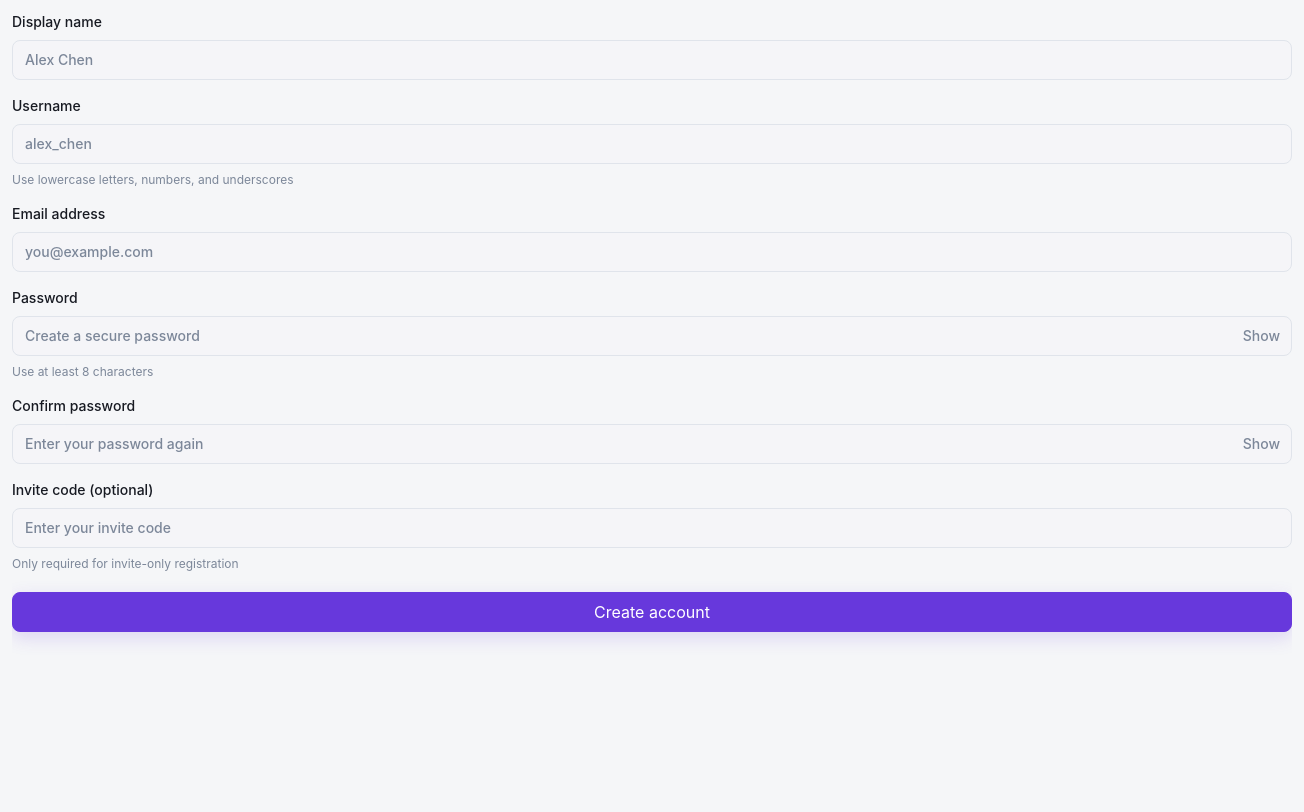
it: RegisterForm › validates registration fields with the shared schema
Step 1. Type "Alex" into the field labelled "Display name" → (652, 60), box 12,40 -> 1292,80
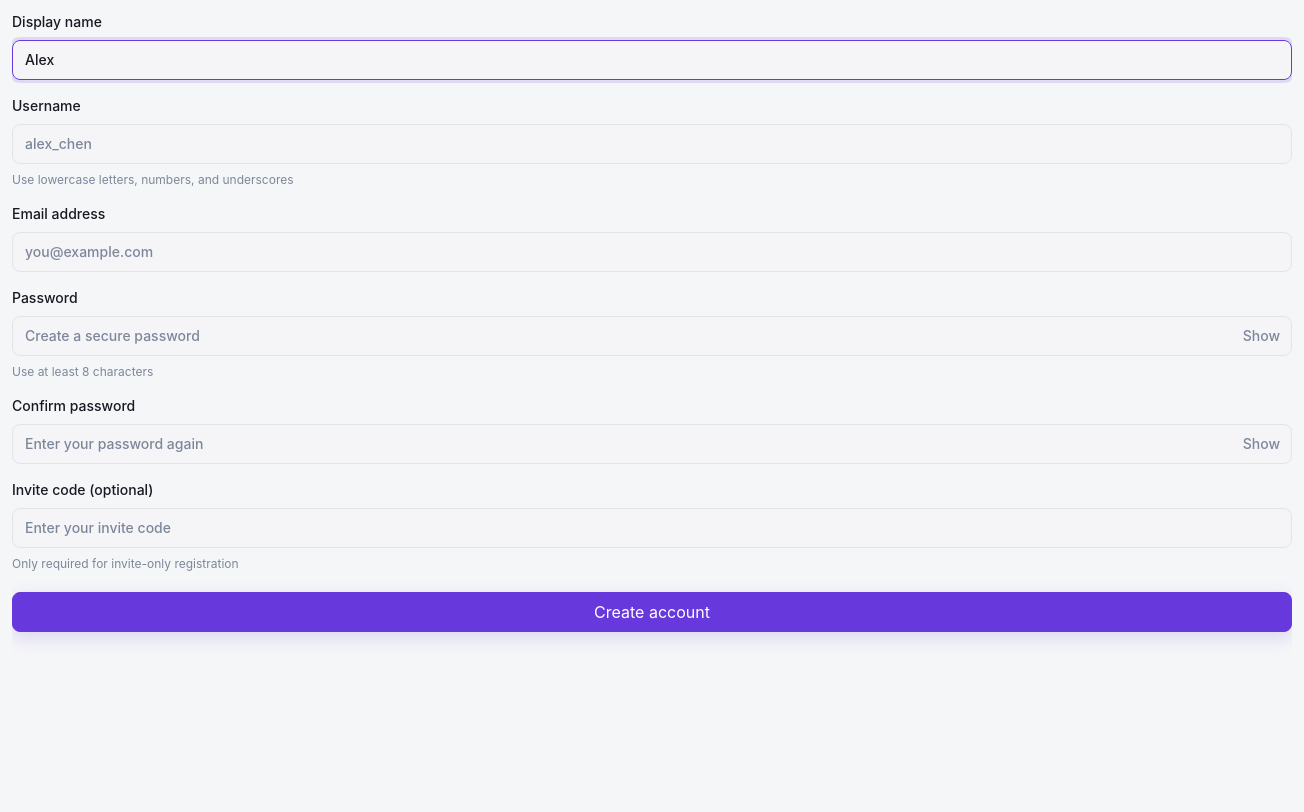
Step 2. Type "Alex-" into the field labelled "Username Use lowercase letters, numbers, and underscores" → (652, 144), box 12,124 -> 1292,164
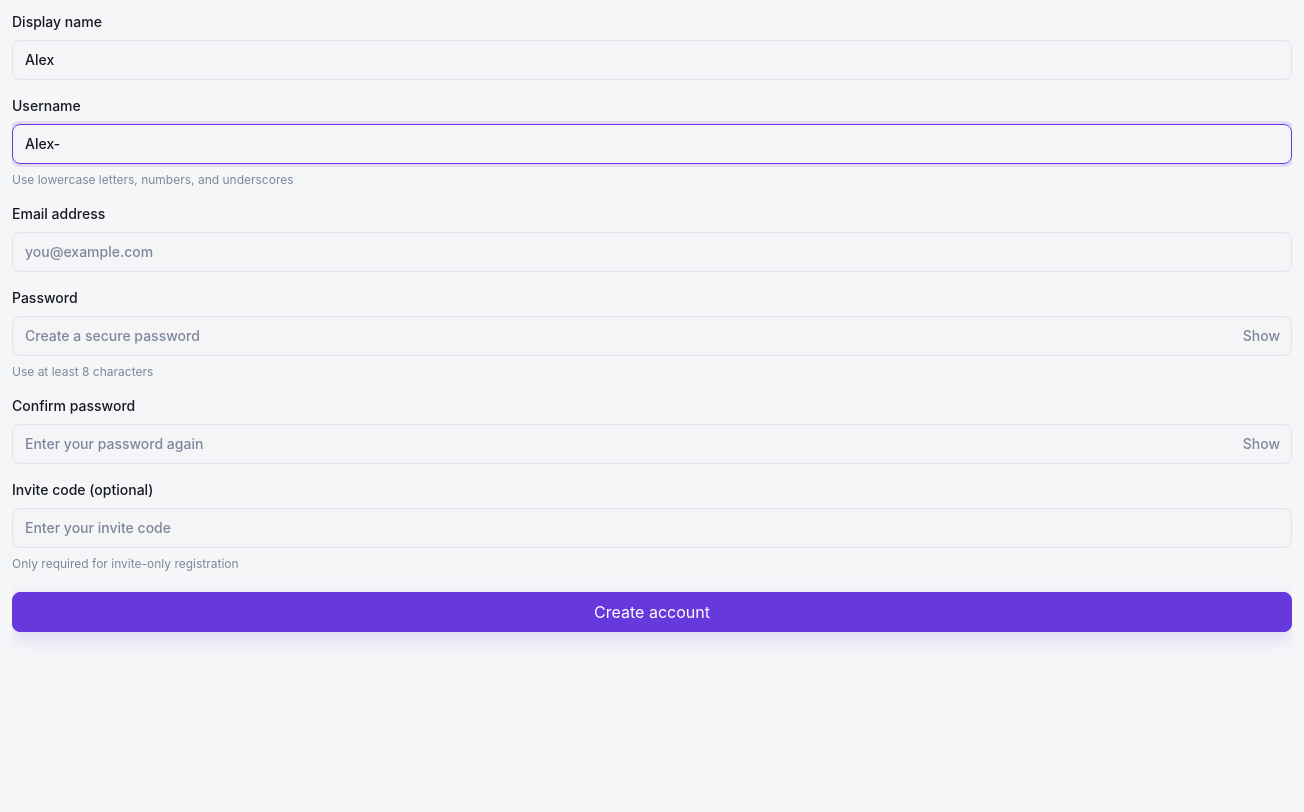
Step 3. Type "not-an-email" into the field labelled "Email address" → (652, 252), box 12,232 -> 1292,272
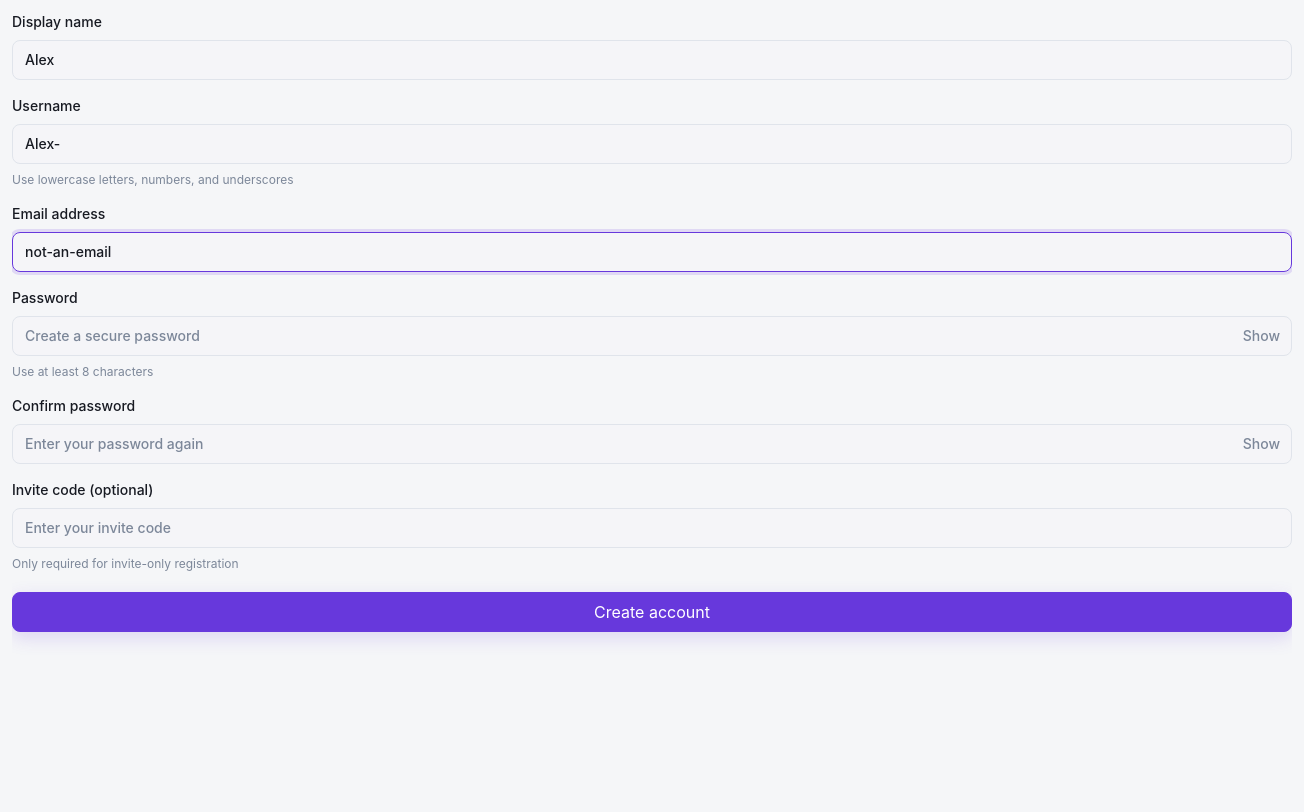
Step 4. Type "short" into the password field labelled "Password Show Use at least 8 characters" → (652, 336), box 12,316 -> 1292,356
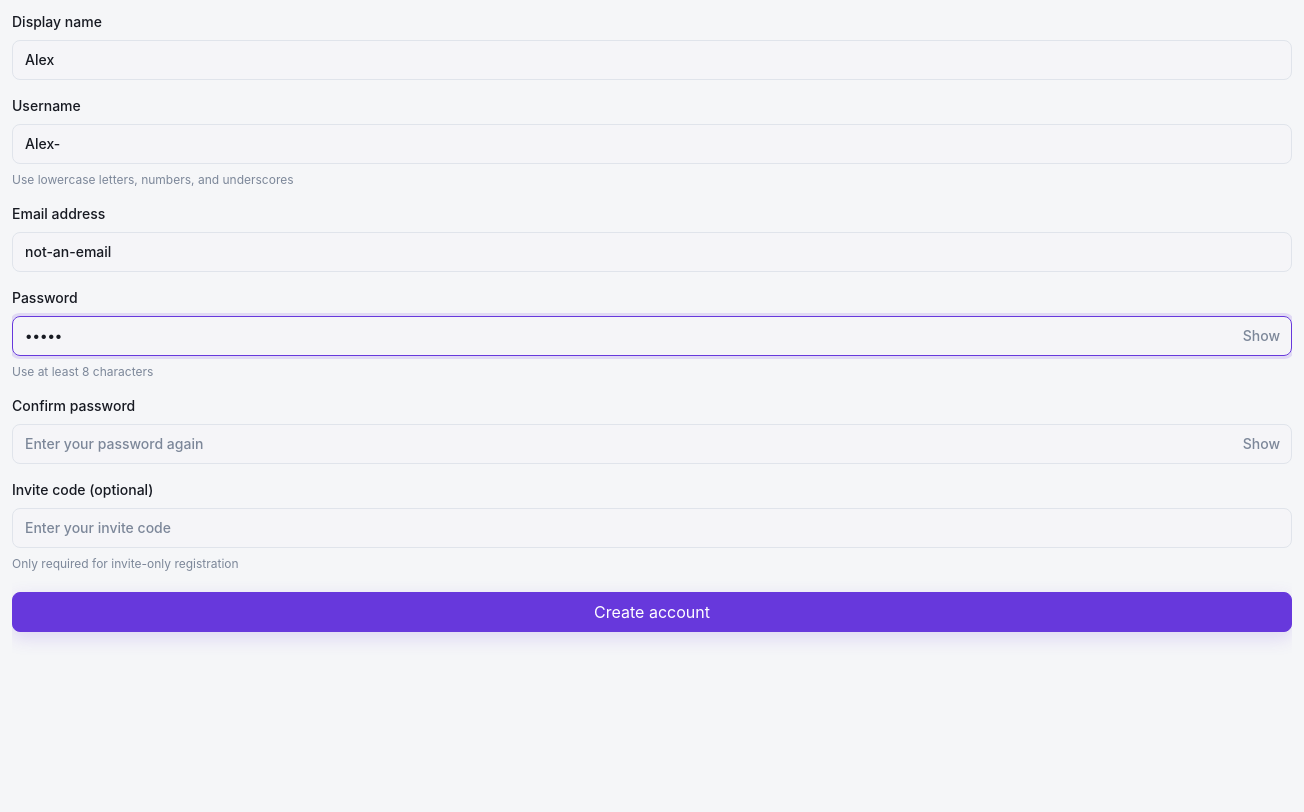
Step 5. Click the button "Create account" → (652, 612), box 12,592 -> 1292,632
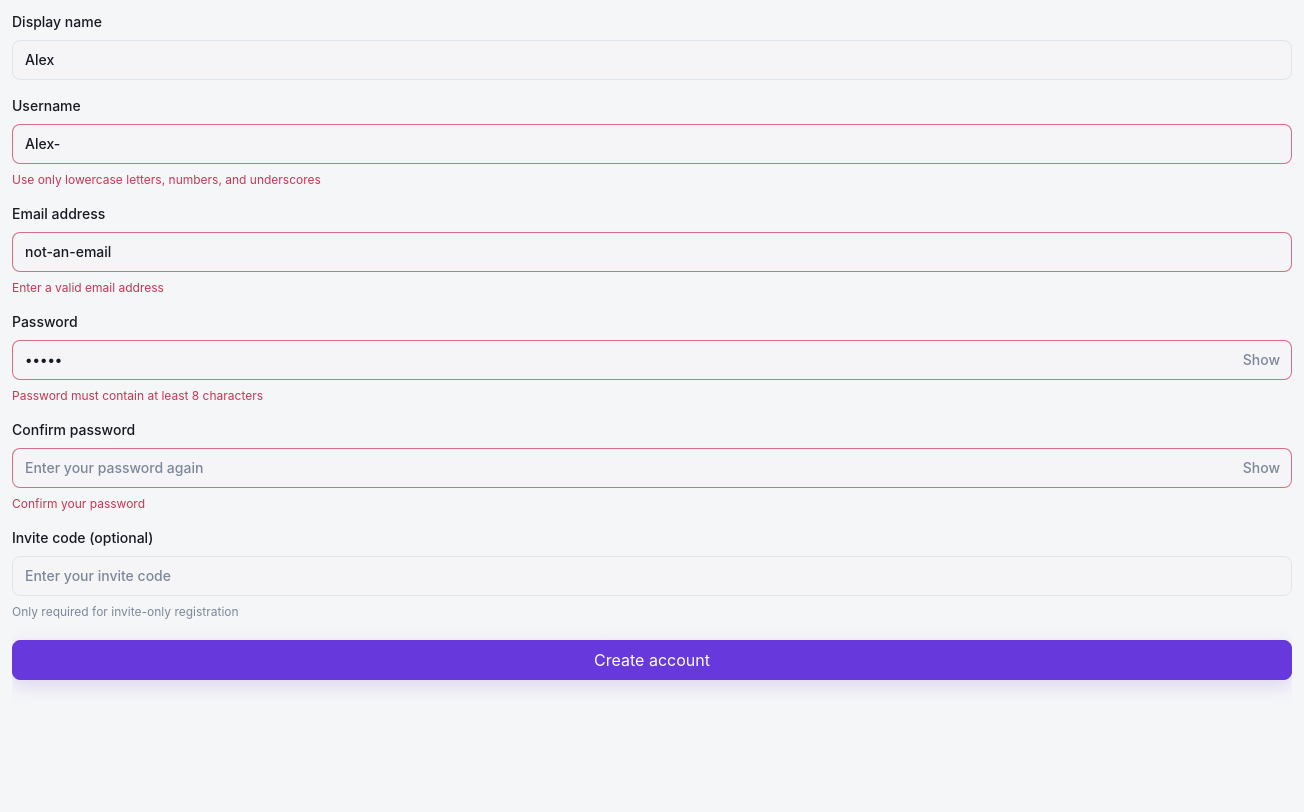
Now the text "Use only lowercase letters, numbers, and underscores" is shown, box 12,172 -> 321,187
Now the text "Enter a valid email address" is shown, box 12,280 -> 164,295
Now the text "Password must contain at least 8 characters" is shown, box 12,388 -> 263,403
